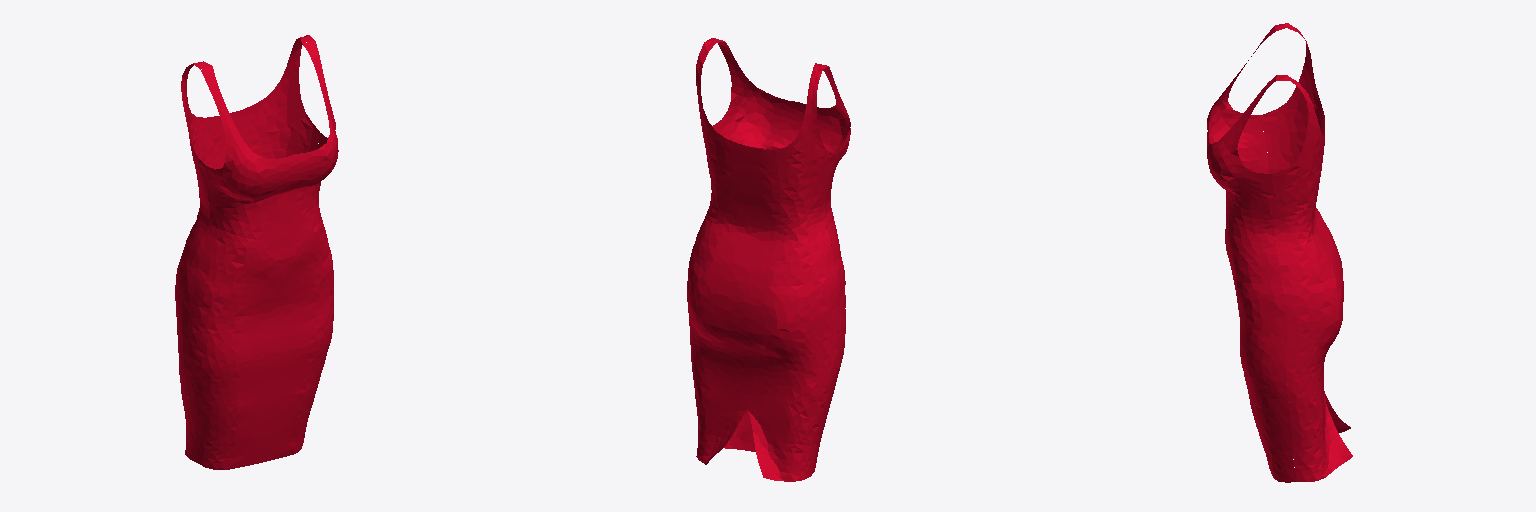
3 renders of one model, left to right at view 1: azimuth 30°, elevation 25°; view 2: azimuth 150°, elevation 25°; view 3: azimuth 270°, elevation 25°, orthographic.
Visible parts, largest first — view 1: small_redBodycon:Mesh; view 2: small_redBodycon:Mesh; view 3: small_redBodycon:Mesh.
Part boxes in pixels (left/top/right/bottom): small_redBodycon:Mesh: left=175, top=35, right=338, bottom=469; small_redBodycon:Mesh: left=687, top=38, right=850, bottom=481; small_redBodycon:Mesh: left=1207, top=23, right=1352, bottom=482.
Bounding box in the file's own units: 324 × 883 × 288.
Materials: 2 (1 with a texture image).